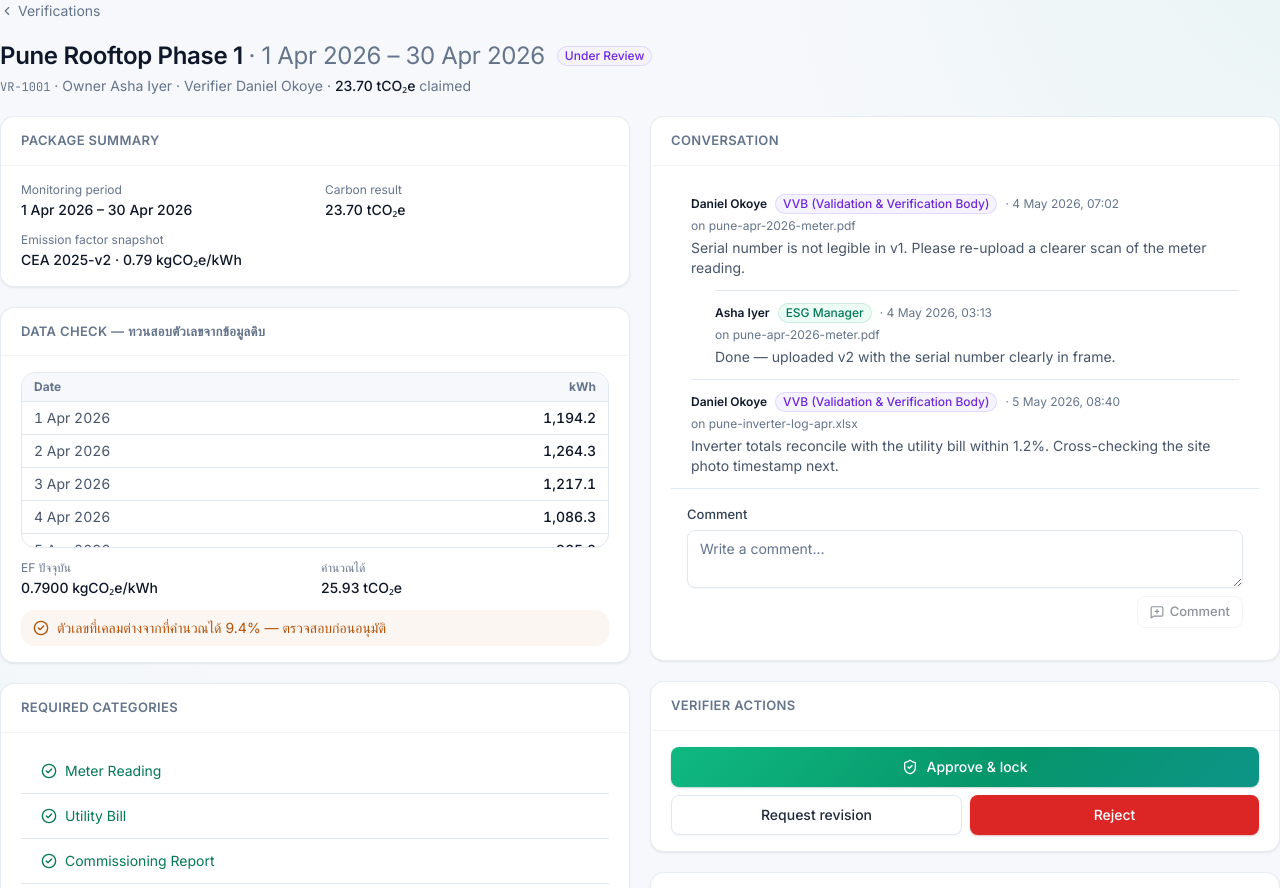
Test: ReviewDetail — approve action shows progress and blocks double-submit › disables the confirm button while the approval request is in flight
Click the button "Approve & lock" at {"x": 965, "y": 766}, box [671,746,1259,786]
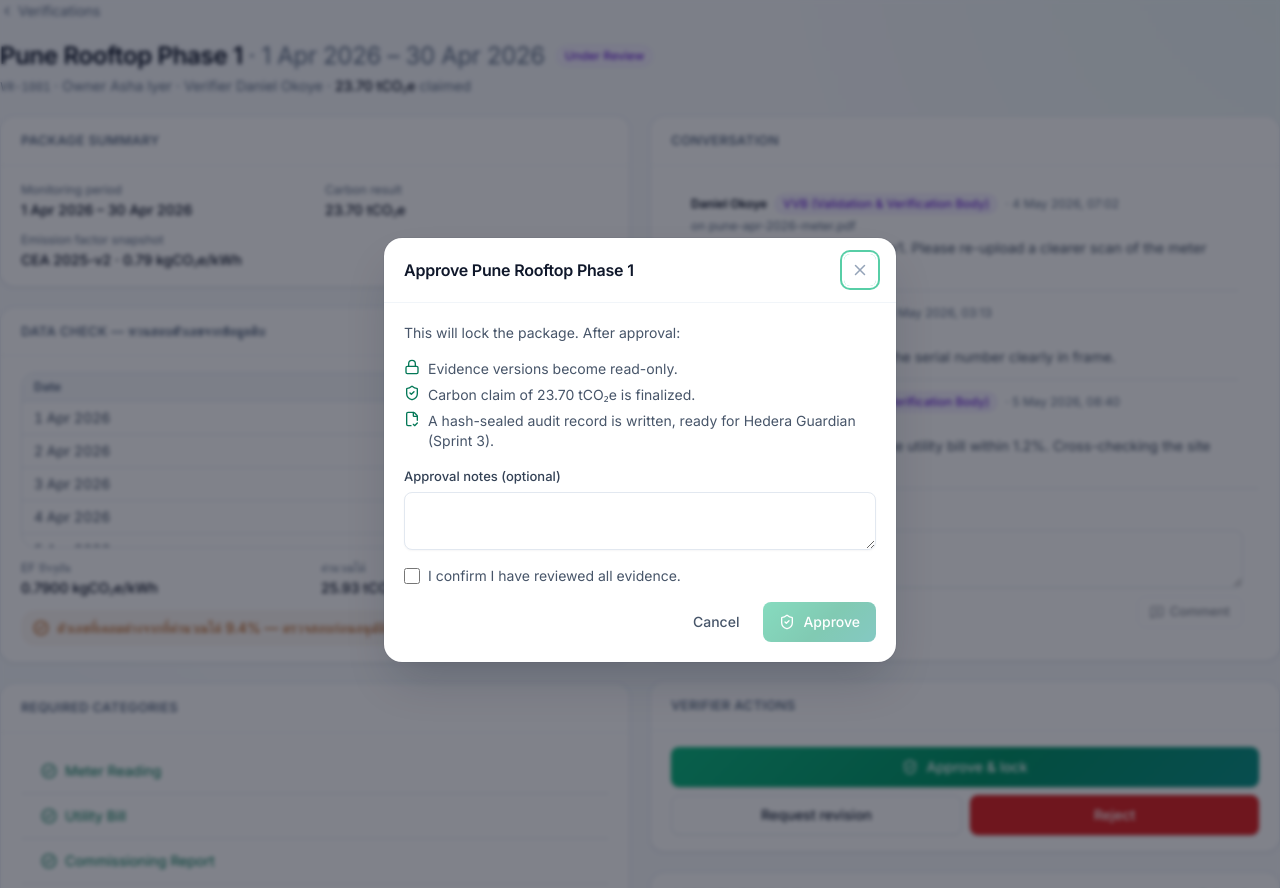
Click the checkbox labelled "I confirm I have reviewed all evidence." at {"x": 412, "y": 576}, box [404,568,420,584]
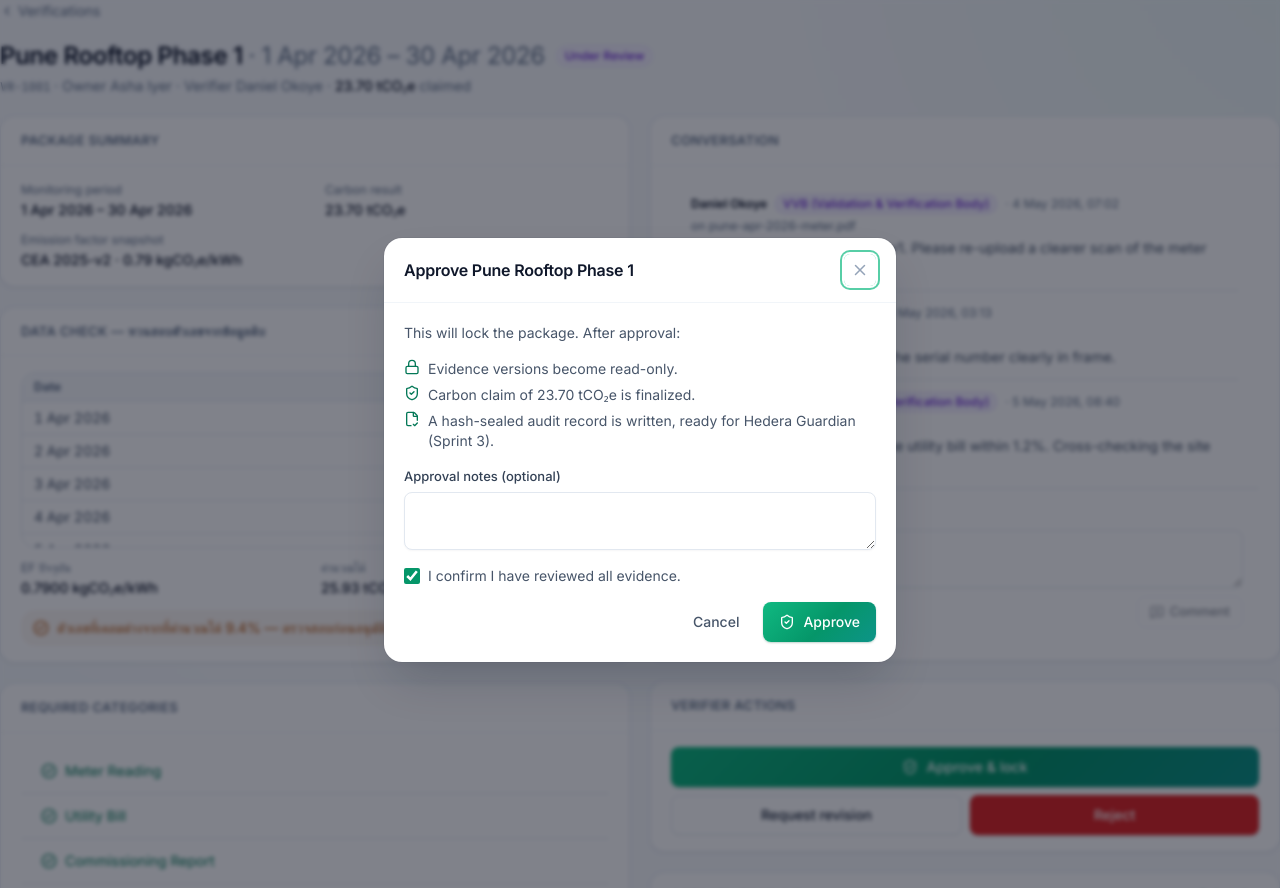
Click the button "Approve" at {"x": 820, "y": 622}, box [763,602,876,642]
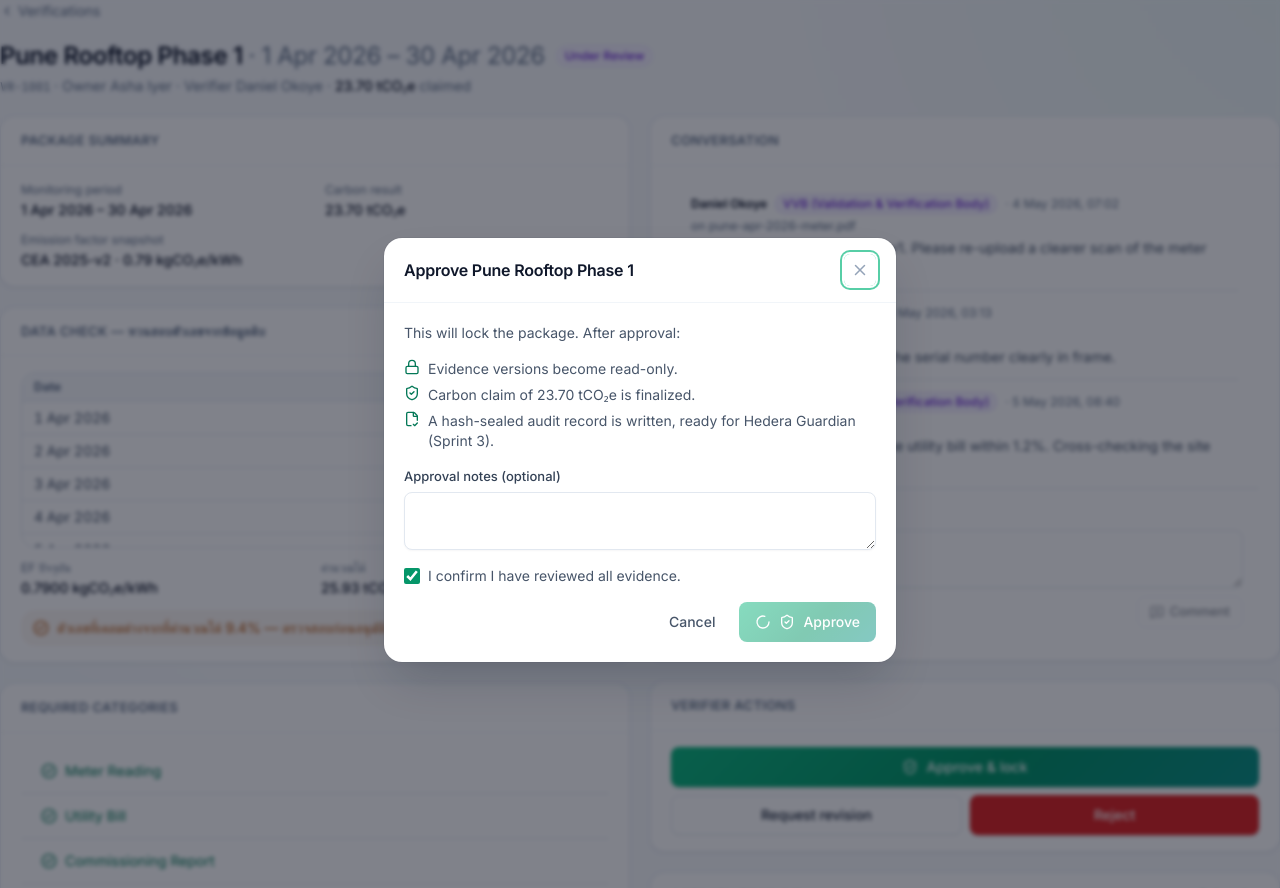
Expected: the button "Approve" is disabled, [739,602,876,642]
